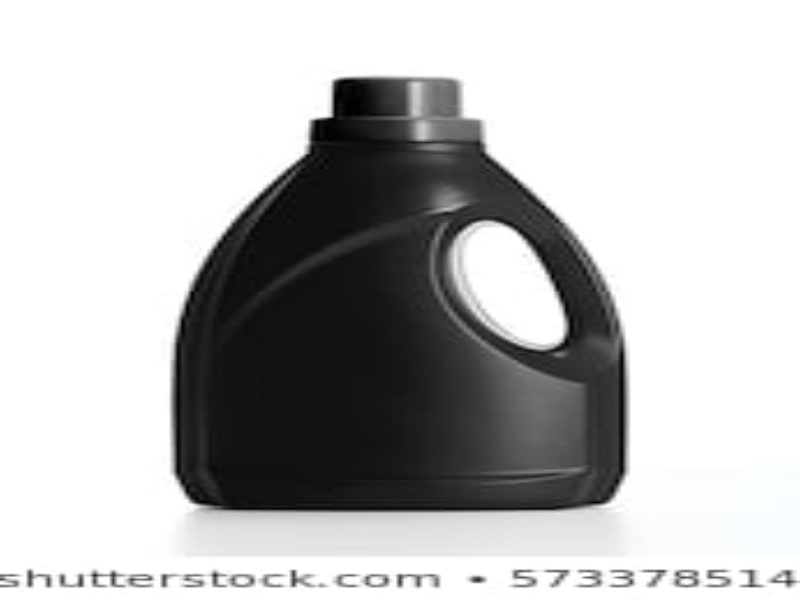bottle-cap: (302, 74, 495, 144)
detergent-bottle: (165, 70, 657, 510)
